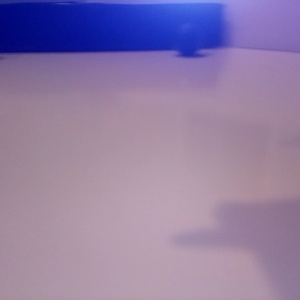alive_ball: (1, 121, 148, 300), (95, 78, 192, 180)
dead_ball: (9, 40, 117, 147), (108, 56, 180, 122)
